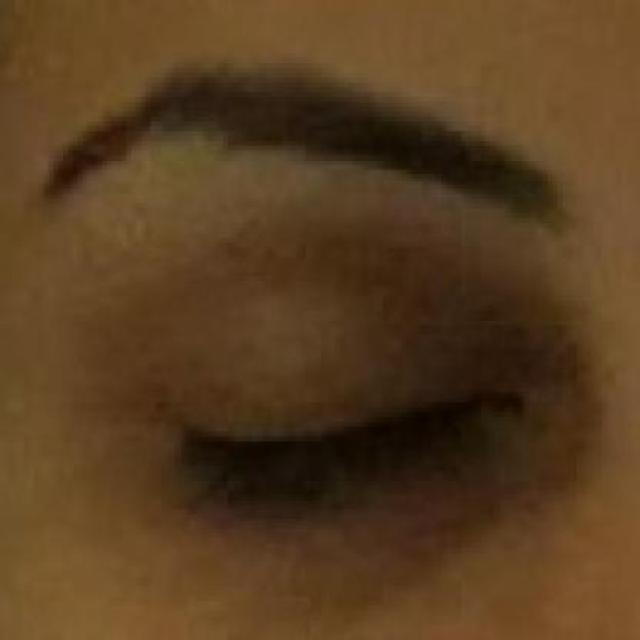drowsy: (154, 322, 517, 560)
